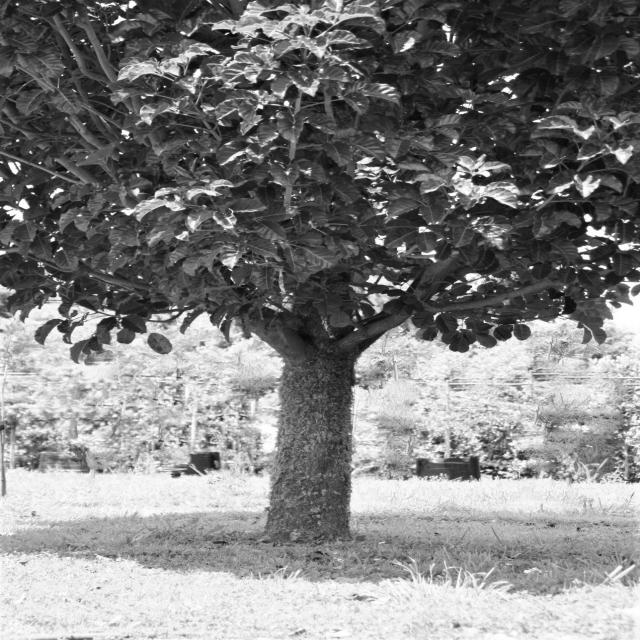Puriri: (2, 0, 640, 545)
